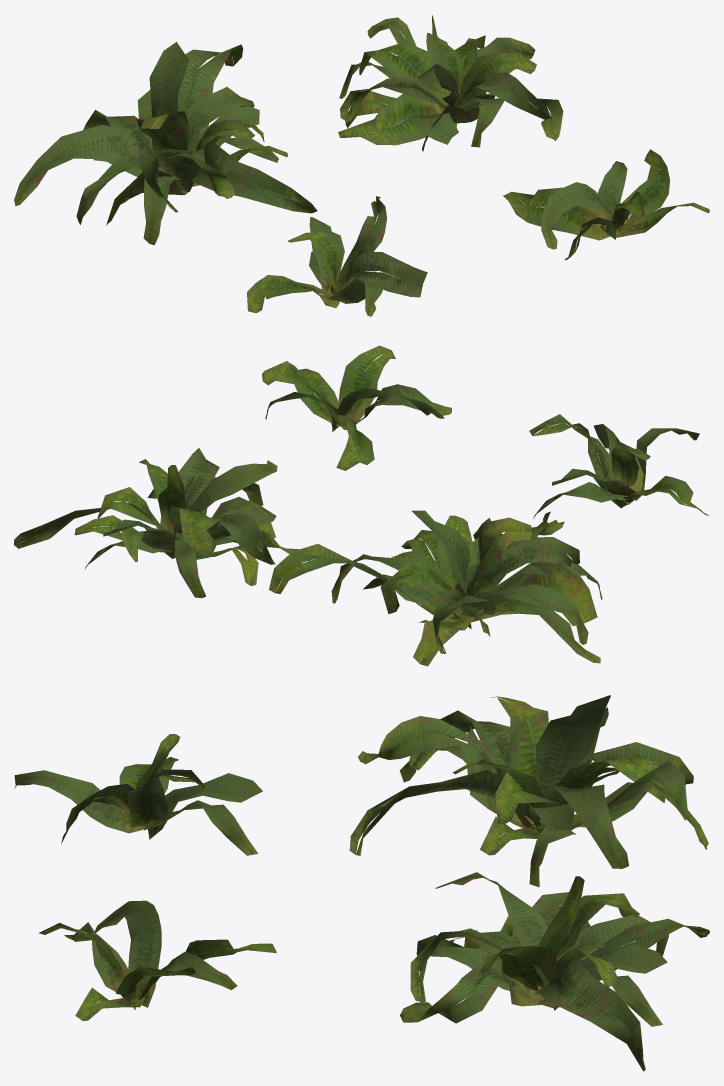
Rendered from fern_02_low.glb.
The picture shows the model from 3 angles, top to bottom: view 1: azimuth 30°, elevation 25°; view 2: azimuth 150°, elevation 25°; view 3: azimuth 270°, elevation 25°; orthographic projection. The views are drawn at different scales.
Parts seen in each view (by area): view 1: fern_02_b, fern_02_c, fern_02_d, fern_02_a; view 2: fern_02_b, fern_02_c, fern_02_d, fern_02_a; view 3: fern_02_b, fern_02_c, fern_02_a, fern_02_d.
Boxes of the visible parts, x1,y1,x2,y2 form: fern_02_b: (14,41,317,245); fern_02_c: (338,15,563,151); fern_02_d: (502,149,709,260); fern_02_a: (247,196,427,316); fern_02_b: (269,510,602,666); fern_02_c: (14,448,309,598); fern_02_d: (262,345,451,470); fern_02_a: (529,414,709,518); fern_02_b: (349,695,708,887); fern_02_c: (400,872,709,1071); fern_02_a: (14,734,262,855); fern_02_d: (39,900,276,1021).
Bounding box in the file's own units: 1.97 × 0.434 × 1.72.
1 material, 1 textured.
